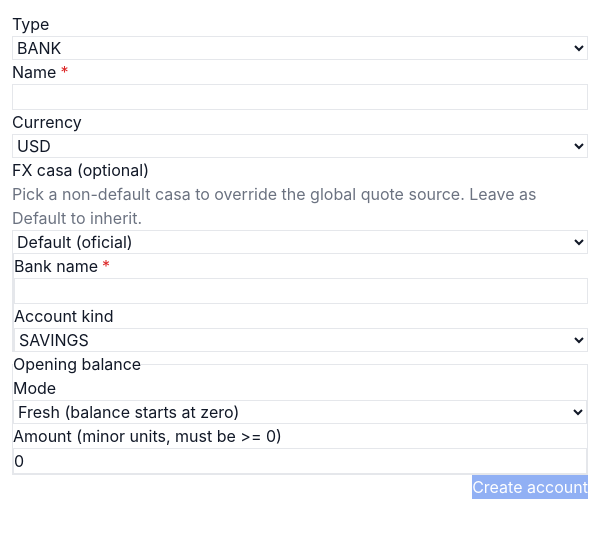
Test: CreateAccountForm — production inline validation + loading (slice 2) › shows an inline FieldError with aria-describedby when the API returns INVALID_AMOUNT
This screenshot has width=609, height=542.
In the field labelled "Name*": x=300, y=97 [12,84,588,110], type "My new account"
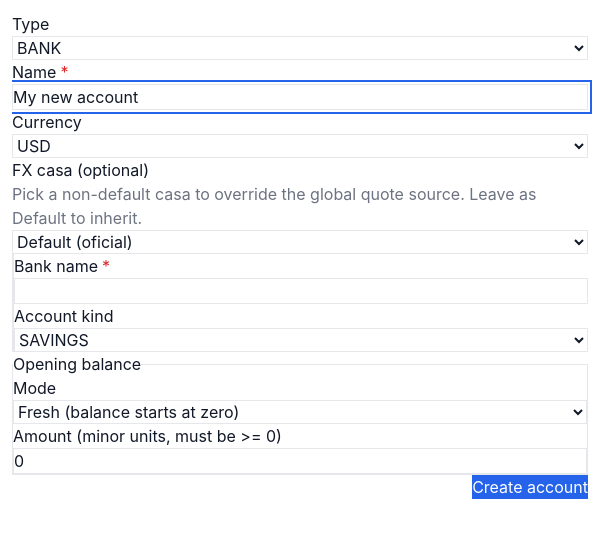
In the field labelled "Bank name*": x=301, y=291 [14,278,588,304], type "Test bank"
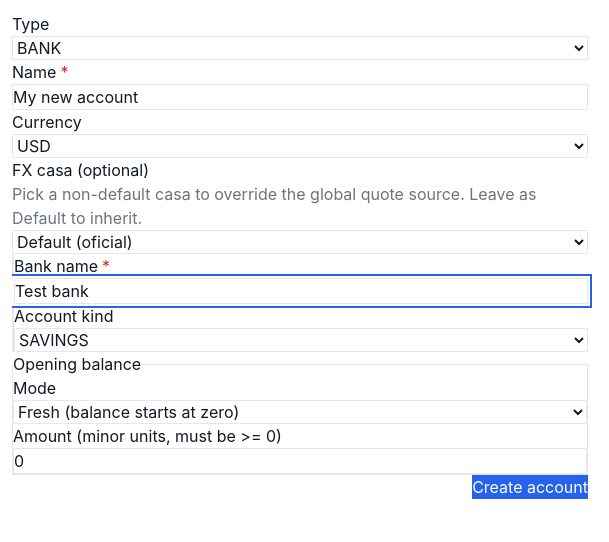
Click the button "Create account": x=530, y=487 [472,475,588,499]
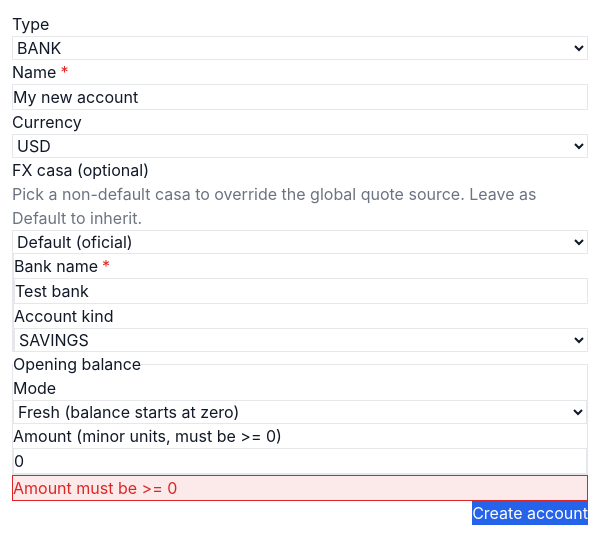
Expected: the number field named "openingBalanceMinor" is shown, [13,448,587,474]
Expected: the text "Amount must be >= 0" is shown, [12,475,588,501]
